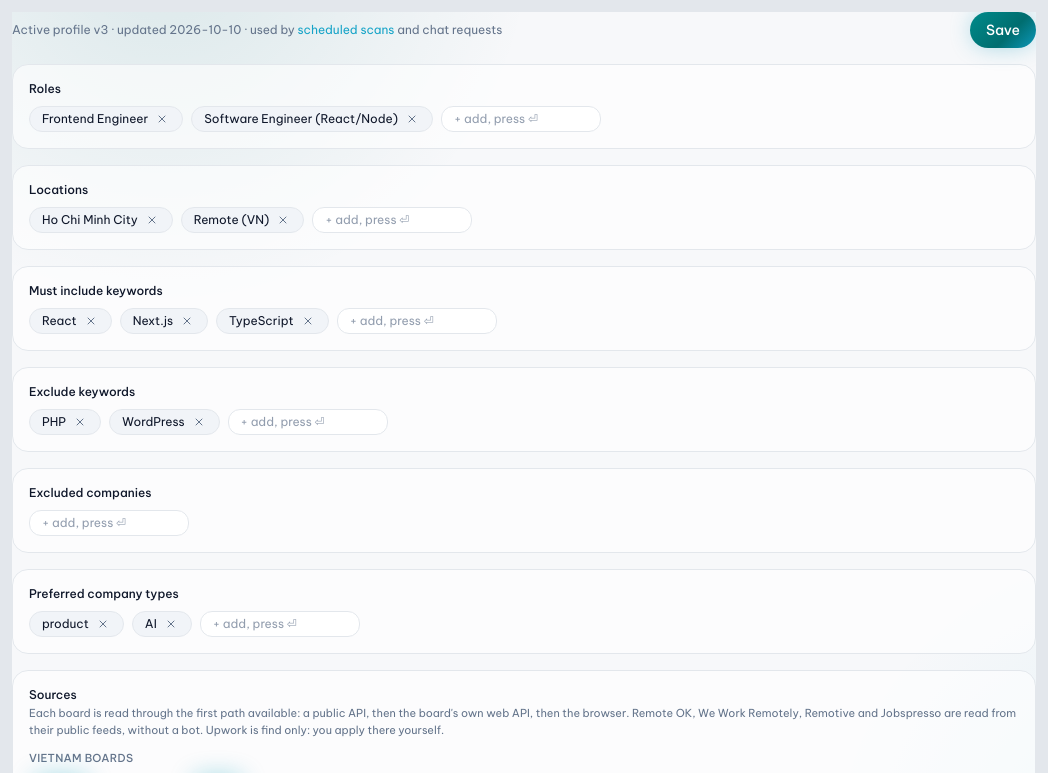
CriteriaScreen (UC-21b) › refuses to save without a role, location or source
Step 1. Click the button named "Remove Frontend Engineer" → {"x": 162, "y": 118}, box [154,110,170,126]
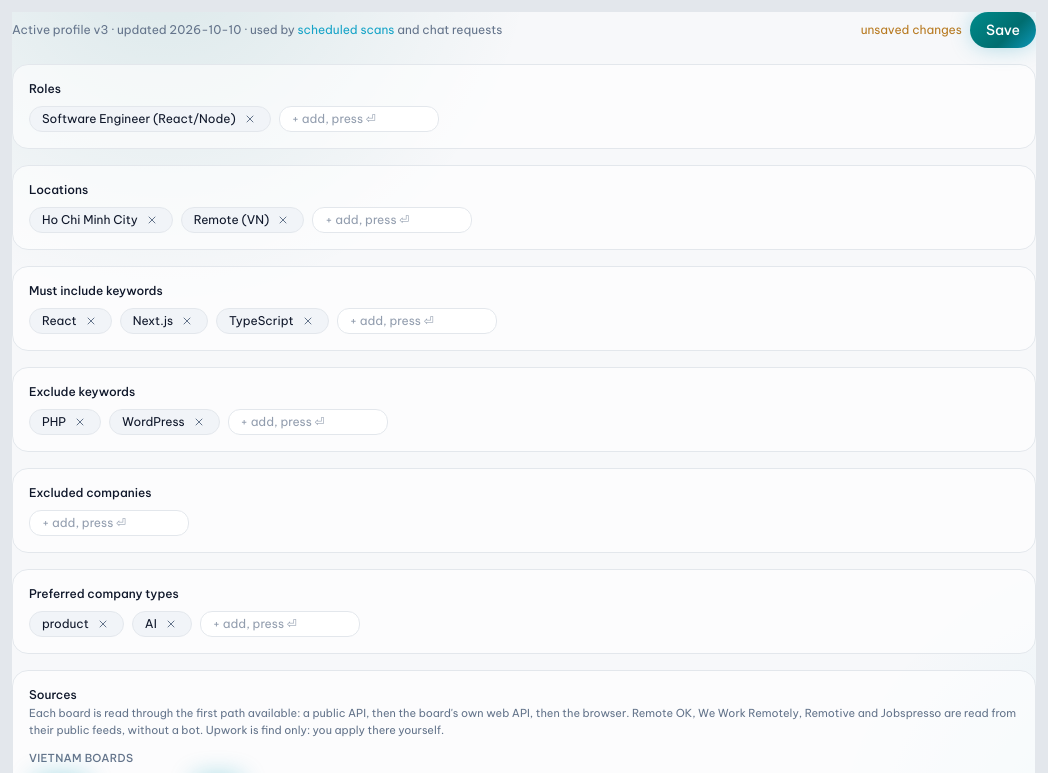
Step 2. Click the button named "Remove Software Engineer (React/Node)" → {"x": 250, "y": 118}, box [242,110,258,126]
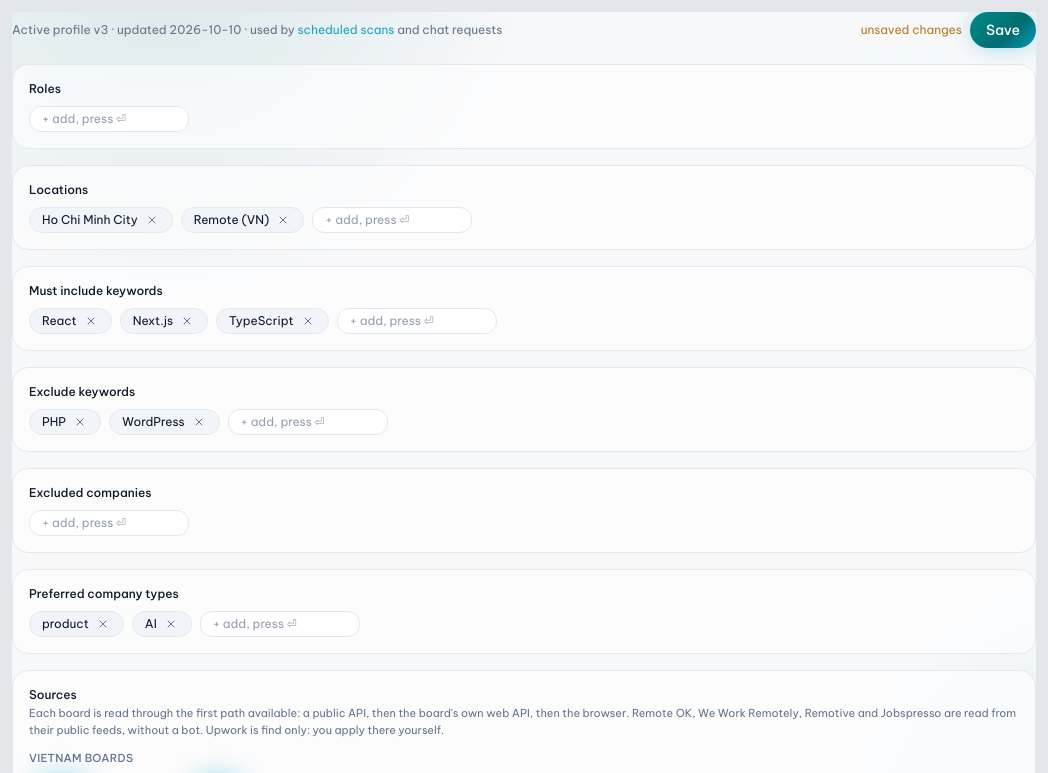
Step 3. Click the button with test id "criteria-save" → {"x": 1003, "y": 30}, box [970,12,1036,48]
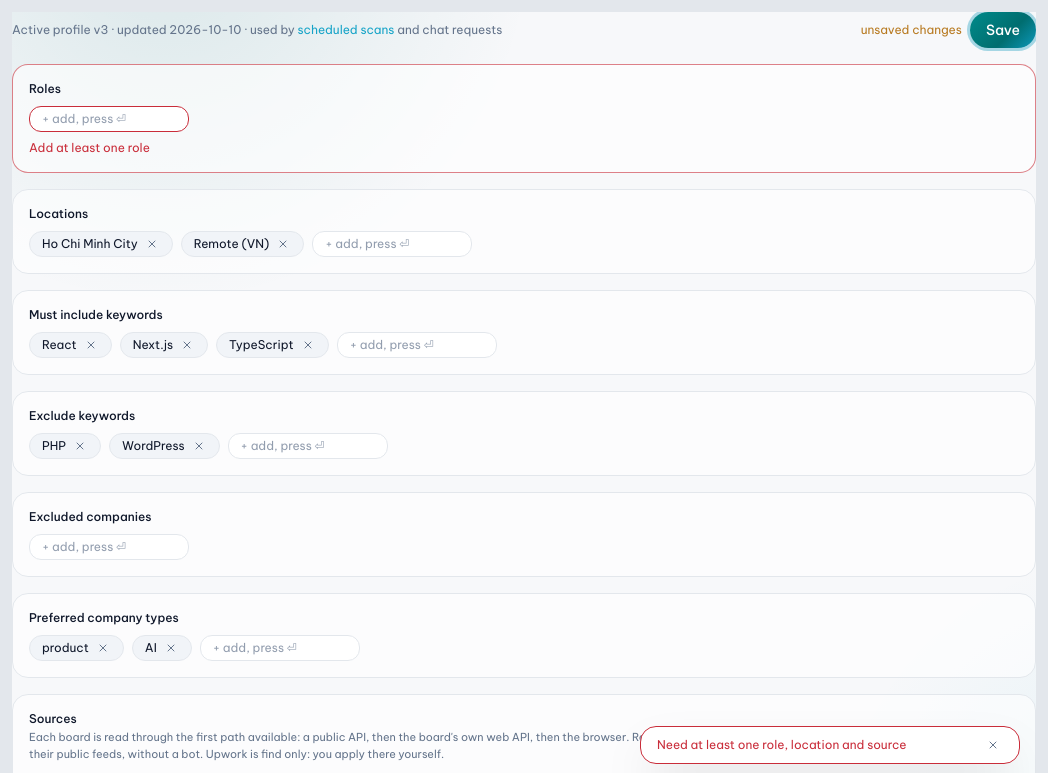
Expected: the text "Need at least one role, location and source" is shown, [657,737,906,752]
Expected: the text "Add at least one role" is shown, [29,140,150,155]
